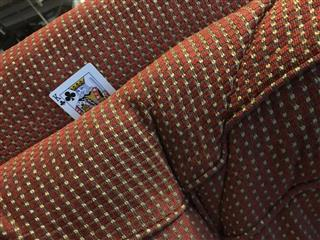KingOfClubs: (47, 62, 116, 120)
